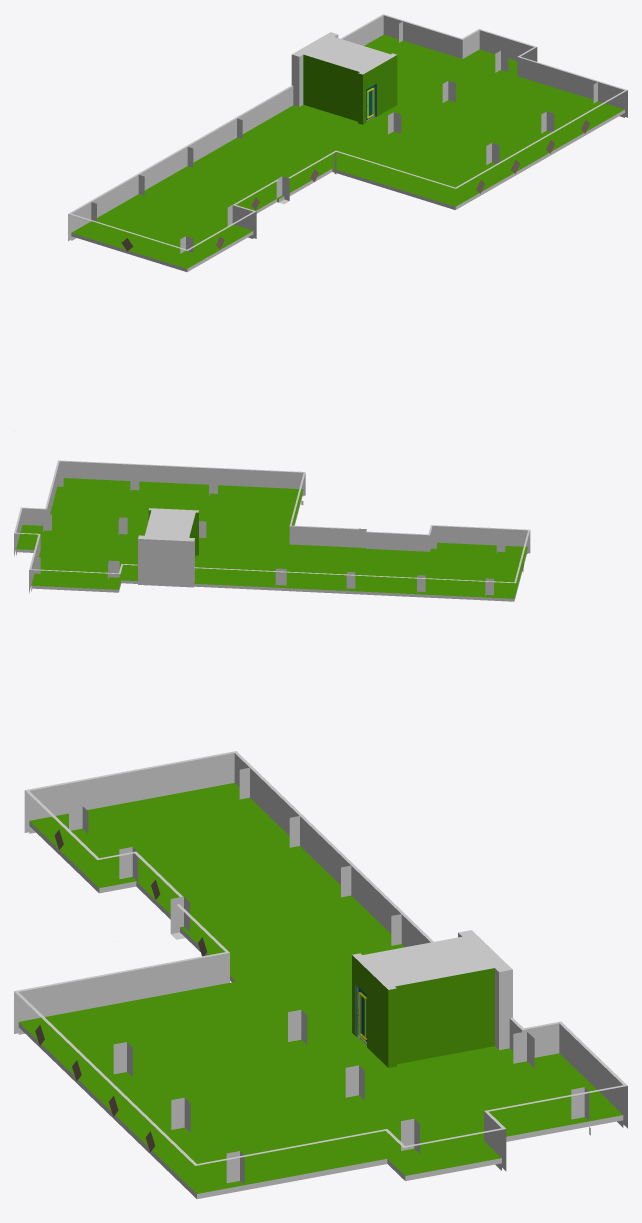
Rendered from 行政大樓_RF.glb.
3 views of the same model, one above another, from view 1: azimuth 30°, elevation 25°; view 2: azimuth 150°, elevation 25°; view 3: azimuth 270°, elevation 25° (orthographic). The views are drawn at different scales.
Parts seen in each view (by area): view 1: 行政3樓#3; view 2: 行政3樓#3; view 3: 行政3樓#3.
Boxes of the visible parts, x1,y1,x2,y2 form: 行政3樓#3: (68,14,627,271); 行政3樓#3: (14,460,530,601); 行政3樓#3: (14,751,627,1198).
Size of the model in its own units: 39.95 by 11.87 by 21.37.
